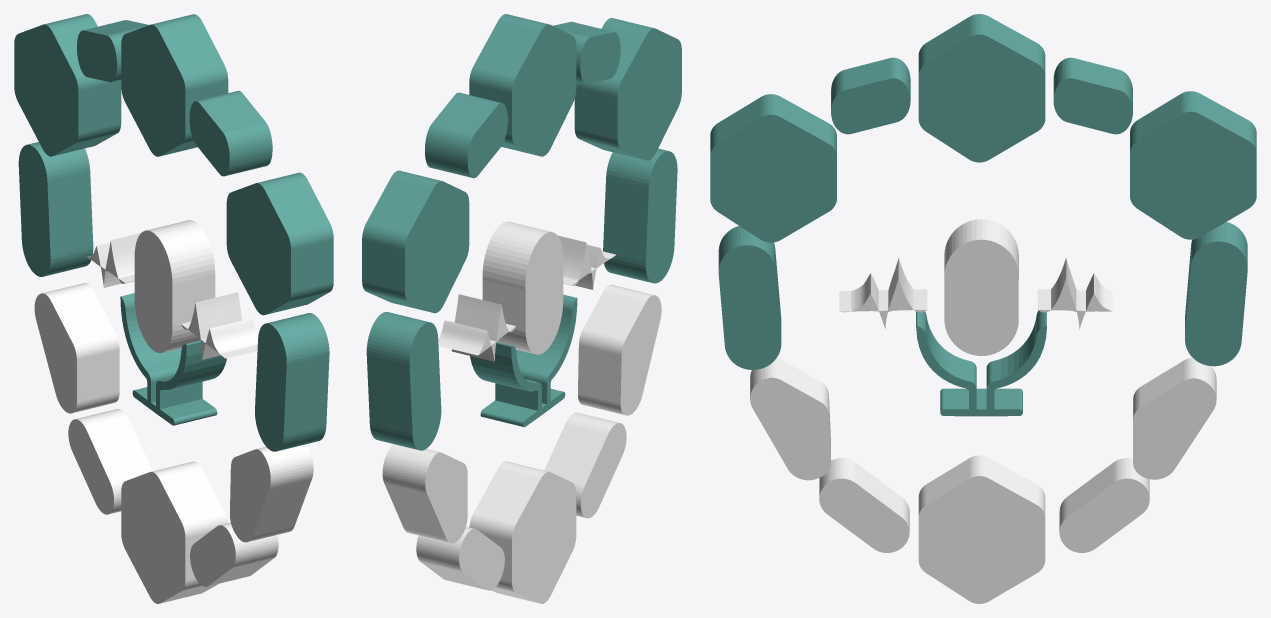
File: Objeto3D_VoicIA.glb
3 renders of one model, left to right at view 1: azimuth 30°, elevation 25°; view 2: azimuth 150°, elevation 25°; view 3: azimuth 270°, elevation 25°, orthographic.
Parts seen in each view (by area): view 1: Curve.033, Curve.007; view 2: Curve.033, Curve.007; view 3: Curve.033, Curve.007.
Part boxes in pixels (<box>): Curve.033: <box>14,14,333,451</box>; Curve.007: <box>34,220,313,603</box>; Curve.033: <box>362,14,681,450</box>; Curve.007: <box>382,221,661,603</box>; Curve.033: <box>710,14,1256,416</box>; Curve.007: <box>750,219,1216,603</box>.
Size of the model in its own units: 0.01 by 0.1288 by 0.1121.
